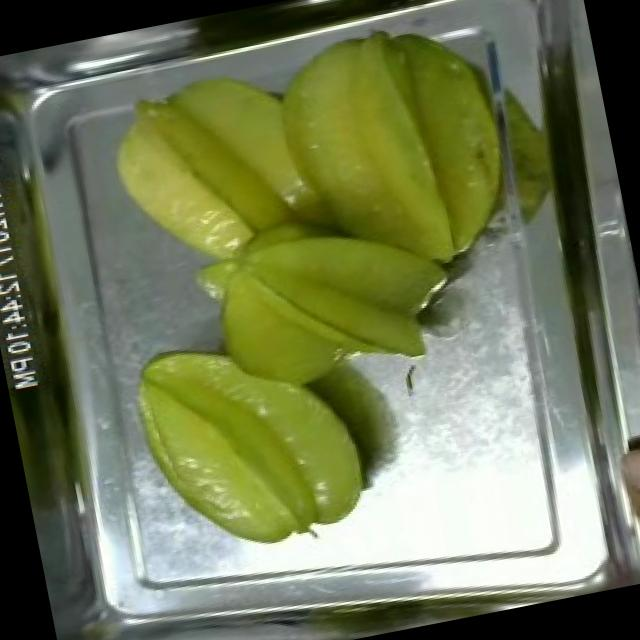fruit: (243, 0, 543, 310), (110, 303, 388, 576), (176, 188, 485, 416), (90, 42, 372, 286)
